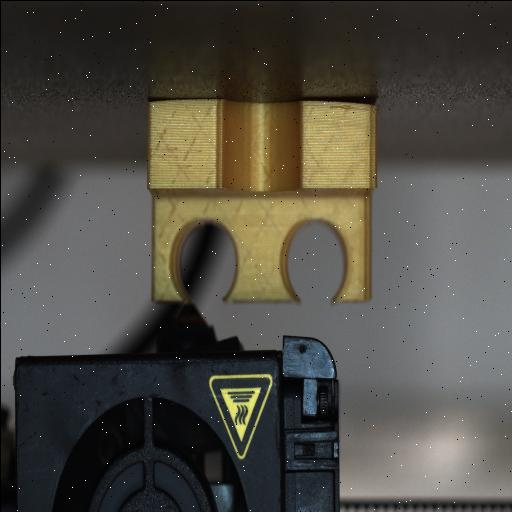warp: (320, 90, 382, 120), (142, 94, 172, 113)
